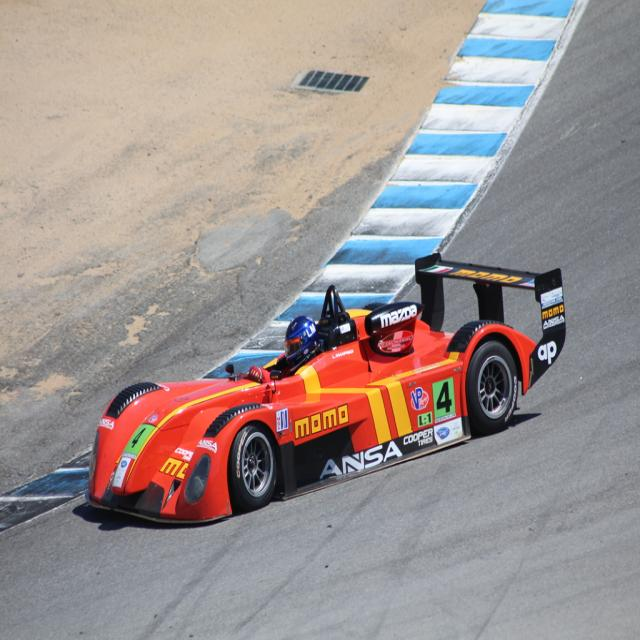car: (83, 251, 567, 524)
